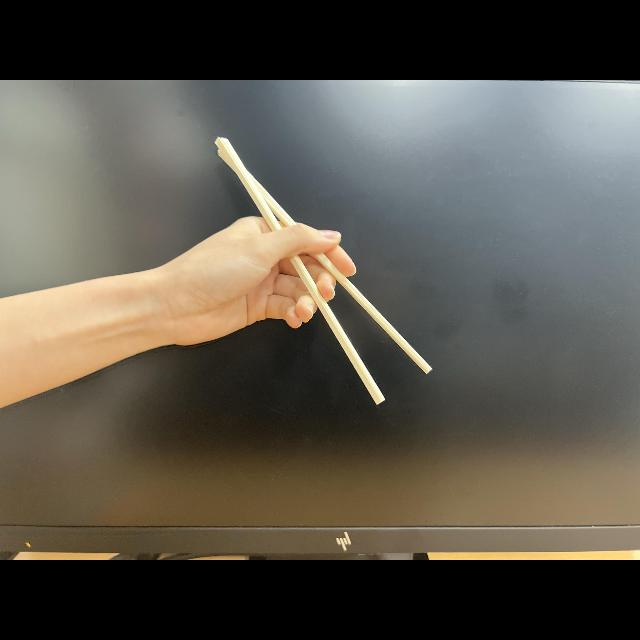stick: (168, 137, 432, 405)
